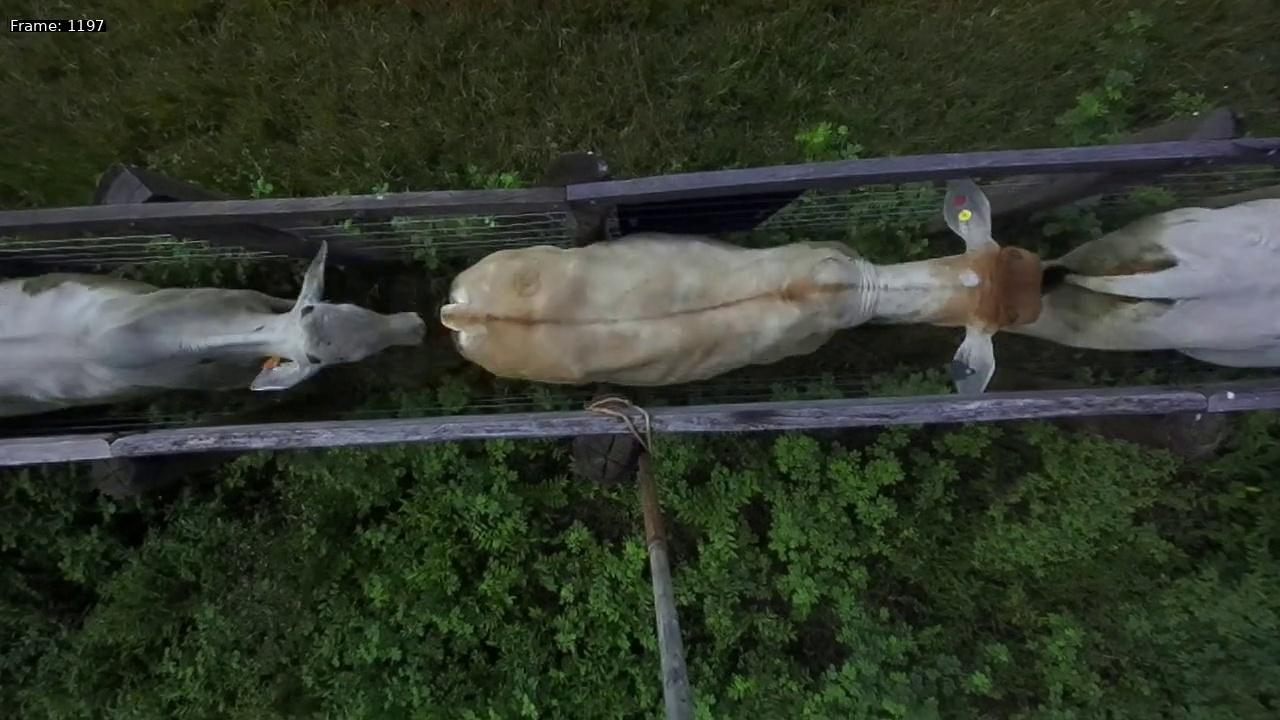cattle: (425, 167, 1047, 405)
